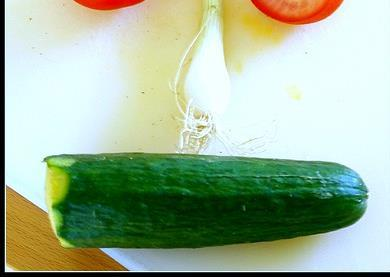cucumber: (43, 154, 370, 249)
